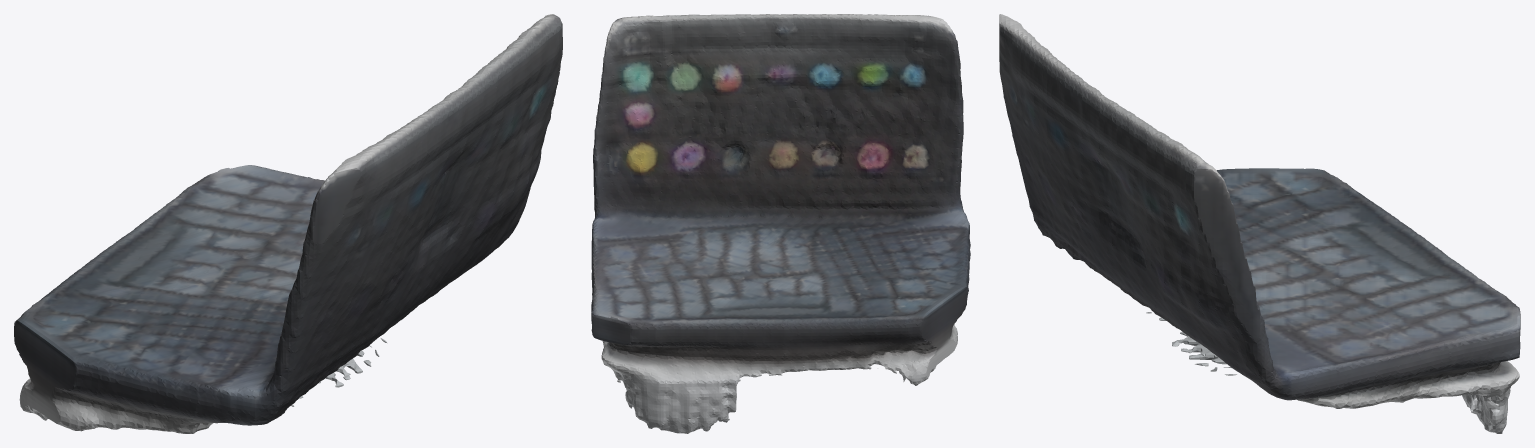
Rendered from tmp083nzia0.glb.
3 renders of one model, left to right at view 1: azimuth 30°, elevation 25°; view 2: azimuth 150°, elevation 25°; view 3: azimuth 270°, elevation 25°, orthographic. The views are drawn at different scales.
Parts seen in each view (by area): view 1: world; view 2: world; view 3: world.
Boxes of the visible parts, box(x1,y1,x2,y2) form: world: box(14, 14, 562, 433); world: box(591, 14, 970, 433); world: box(999, 14, 1520, 433).
Bounding box in the file's own units: 1.98 × 1.54 × 1.97.
